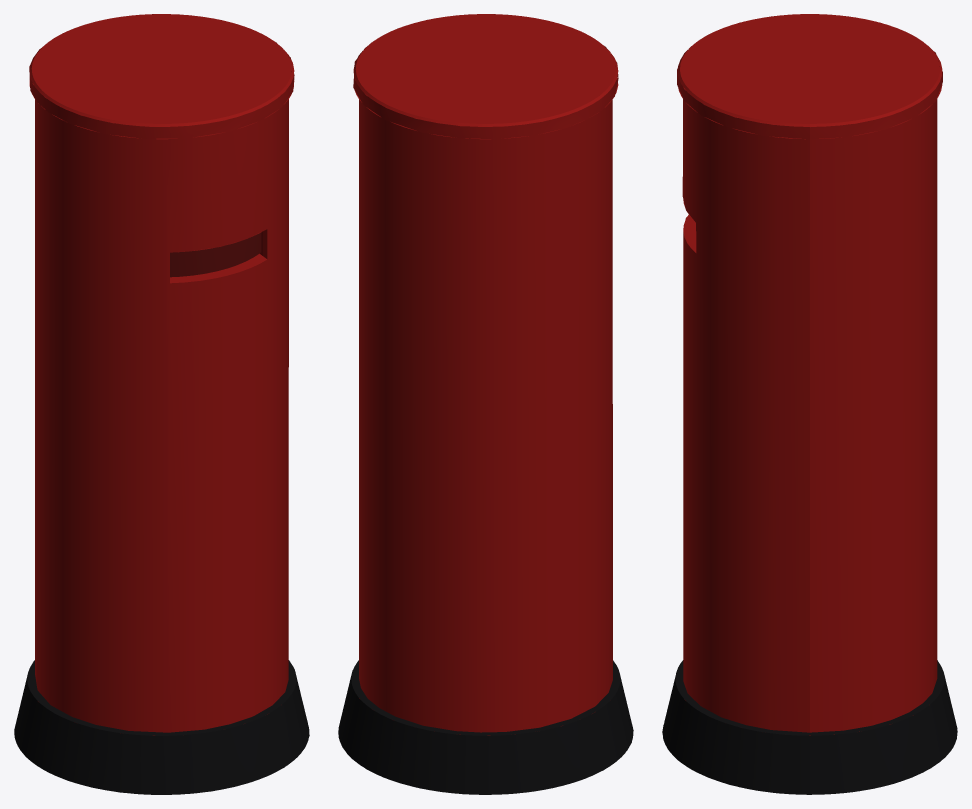
Rendered from mailbox.glb.
3 views of the same model, side by side, from view 1: azimuth 30°, elevation 25°; view 2: azimuth 150°, elevation 25°; view 3: azimuth 270°, elevation 25° (orthographic).
Parts seen in each view (by area): view 1: body, slot_flap; view 2: body; view 3: body.
Part boxes in pixels (x1,y1,x2,y2): body: [14, 14, 309, 794]; slot_flap: [170, 232, 261, 277]; body: [338, 14, 633, 794]; body: [662, 14, 957, 794].
Bounding box in the file's own units: 0.5246 × 1.3 × 0.5243.
